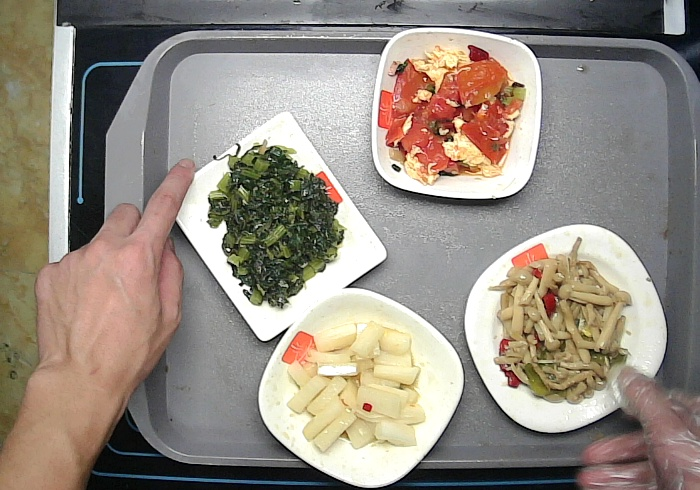SHKJ-Bai_Se_Cai_Die: (253, 283, 469, 490)
SHKJ-Bai_Se_Si_Fang_Cai_Die: (462, 222, 670, 433)
SHKJ-Bai_Se_Xiao_Fang_Die: (369, 23, 546, 203)
SHKJ-Si_Fang_Min: (170, 108, 388, 344)
